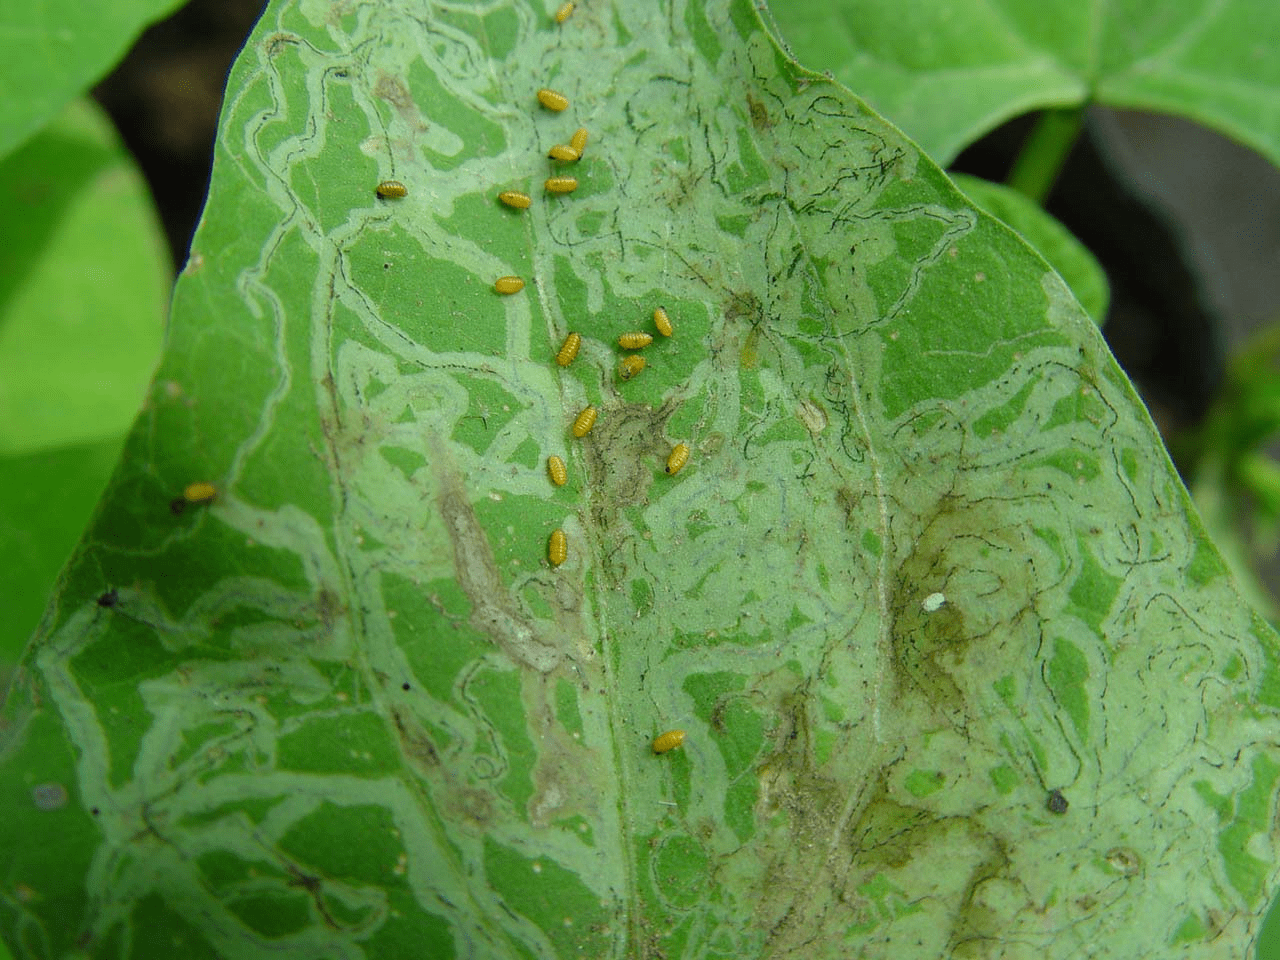liriomyza: (5, 1, 1277, 960), (568, 400, 603, 439), (543, 527, 572, 565), (542, 450, 570, 487), (663, 437, 690, 475), (535, 83, 570, 112), (555, 329, 583, 366), (496, 184, 534, 209), (172, 483, 218, 504), (370, 175, 411, 199), (650, 728, 684, 754), (650, 304, 678, 335), (615, 330, 654, 352), (540, 173, 581, 194), (495, 269, 525, 294), (616, 355, 641, 383), (549, 3, 583, 24)
